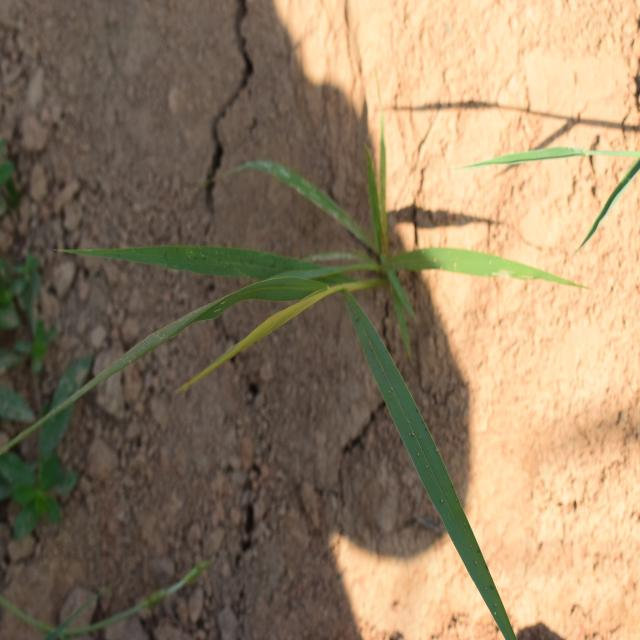green_foxtail: (56, 127, 490, 532)
